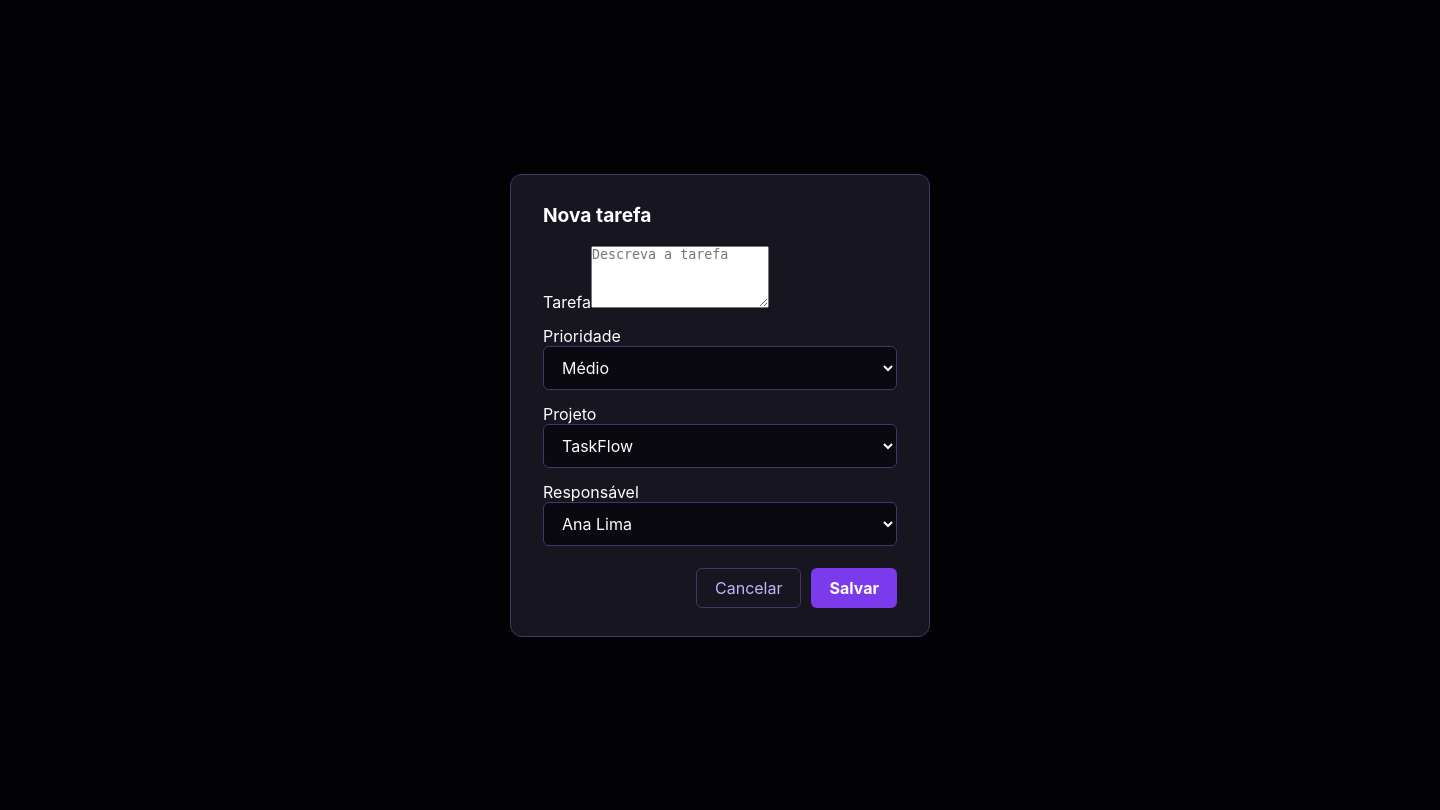
Test: ModalTarefa › mostra Salvando e desabilita o botão enquanto salva
Type "Estudar mocks" into the text box labelled "Tarefa". click: (680, 276)
box: x1=591 y1=246 x2=769 y2=308
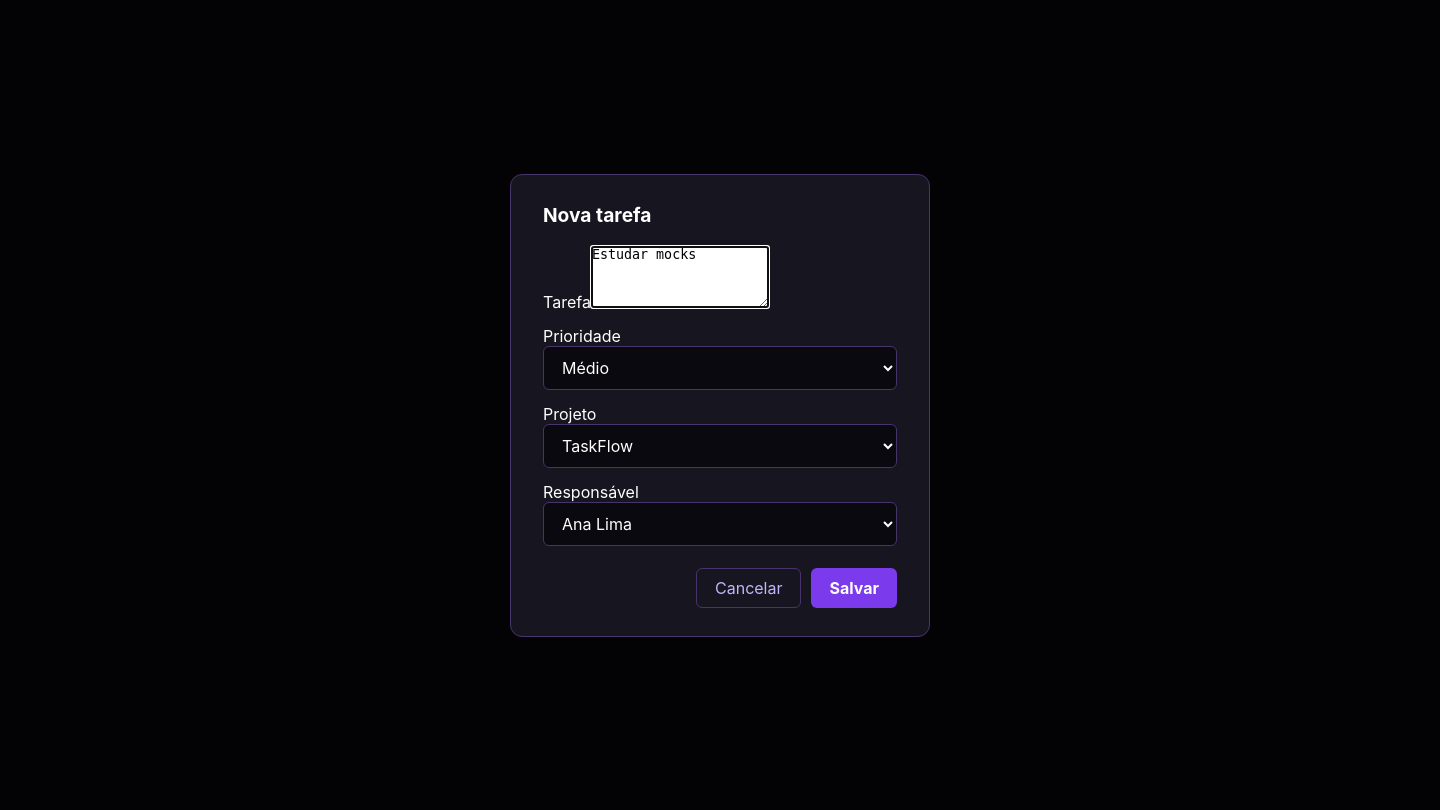
Click the button "Salvar". click: (854, 588)
box: x1=812 y1=568 x2=897 y2=608
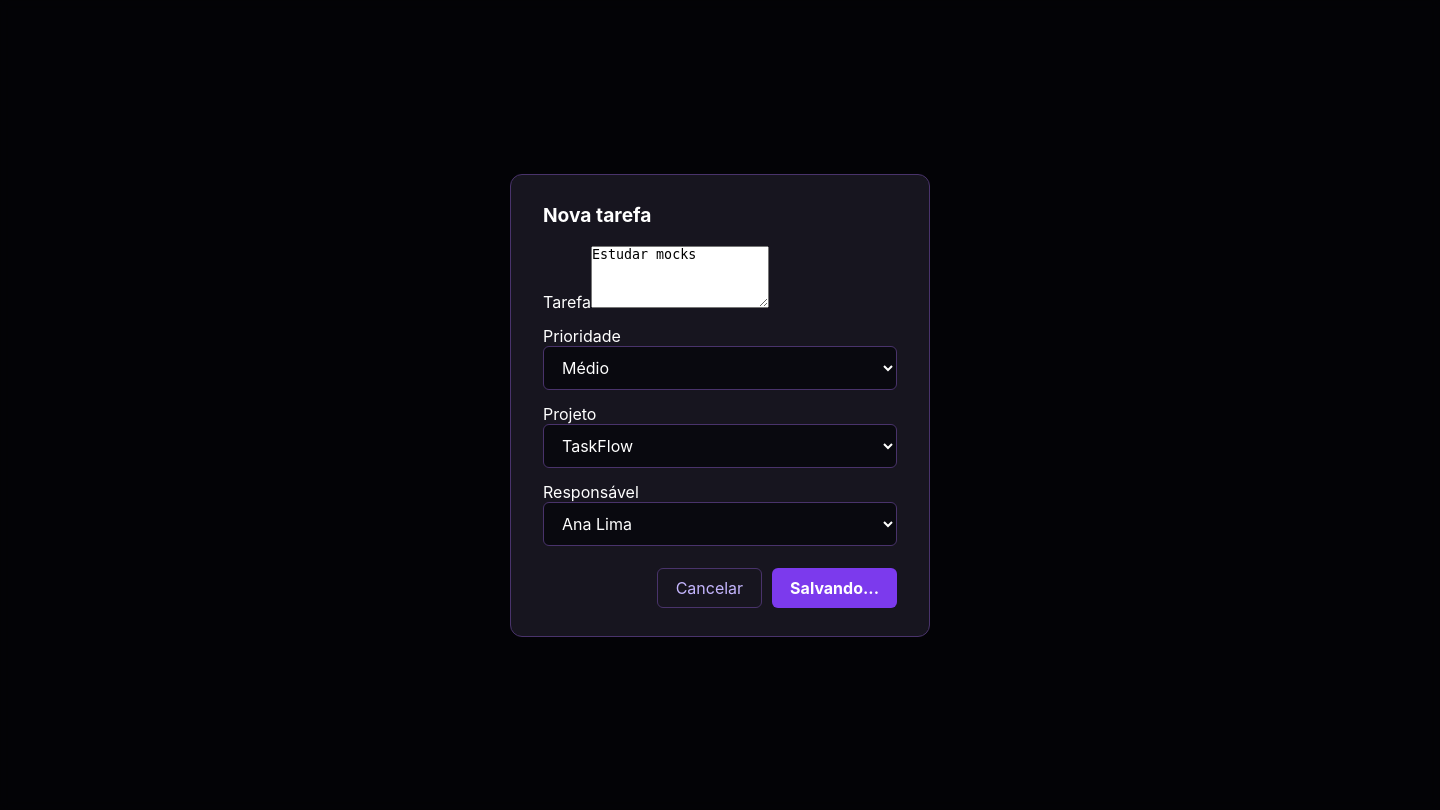
Expected: the button "Salvando..." is disabled, x1=772 y1=568 x2=897 y2=608
